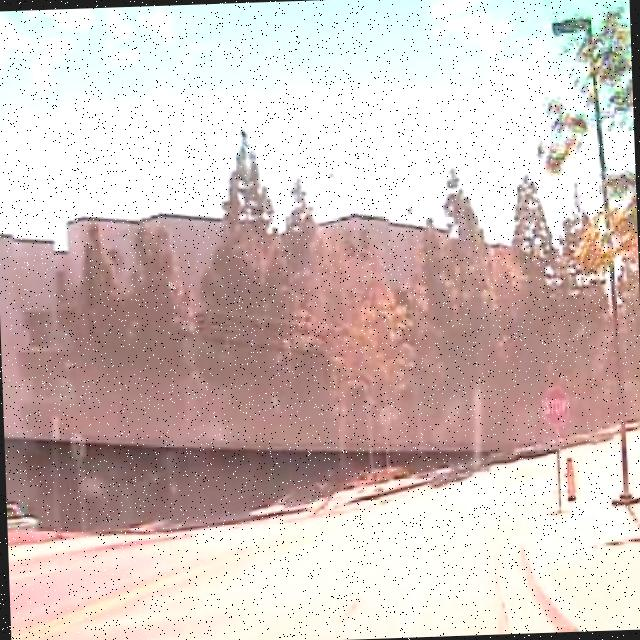Stop: (538, 384, 572, 428)
